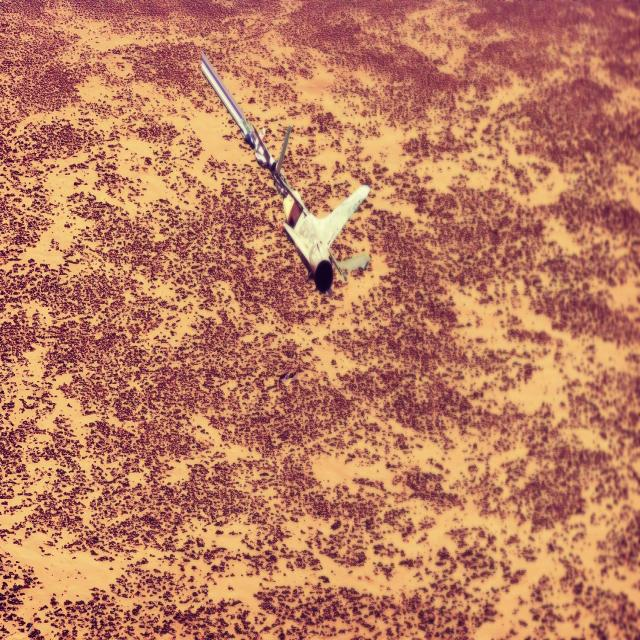airplane: (200, 51, 370, 293)
